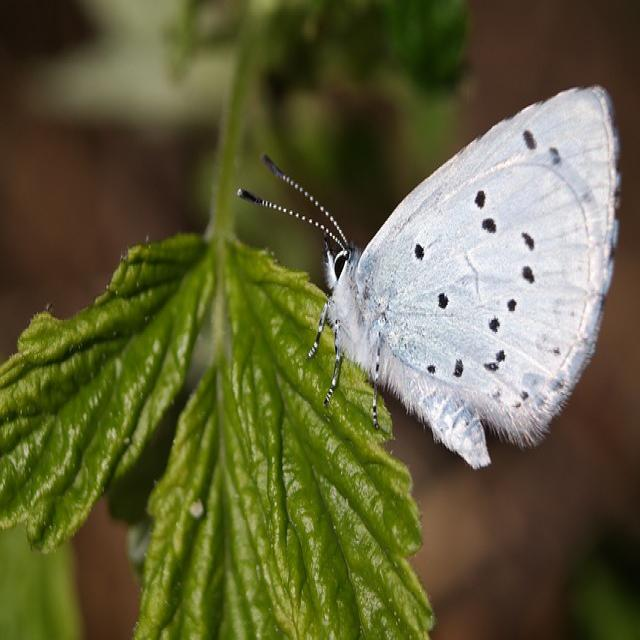butterfly: (324, 86, 622, 470)
